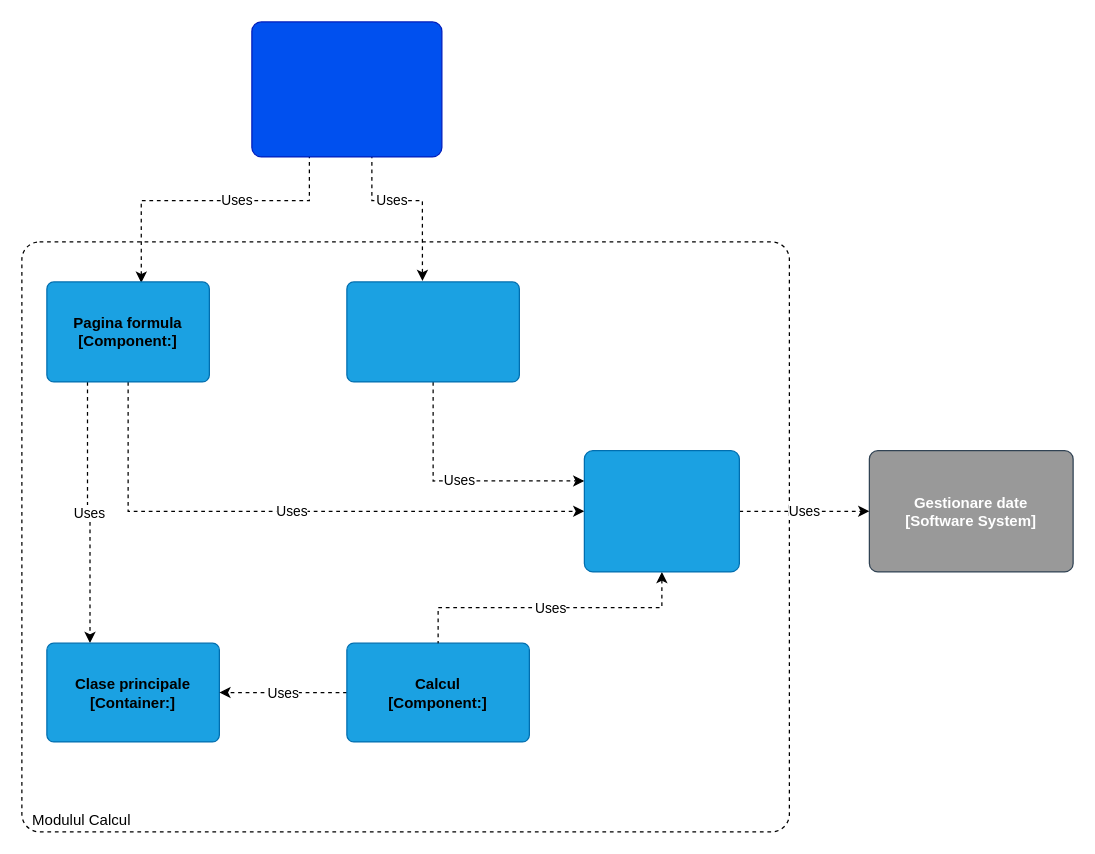
This 1095x854 diagram has some shape labels left out. The shapes that lost their labels are listed below. From the top down, each one's centre as x and y in pixels, then its label:
At (x=346, y=89): "Front [Softaware System".
At (x=432, y=331): "Pagina student [Component:]".
At (x=661, y=510): "Prelucrare date [Component:]".
